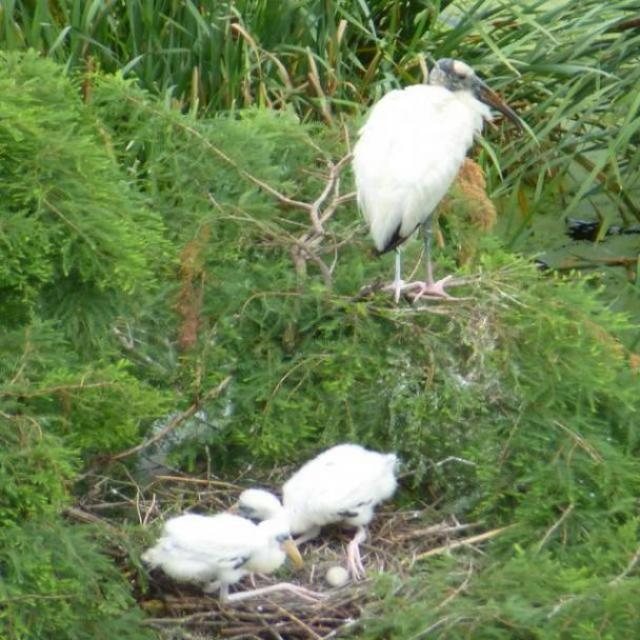Chicken: (144, 485, 307, 610)
